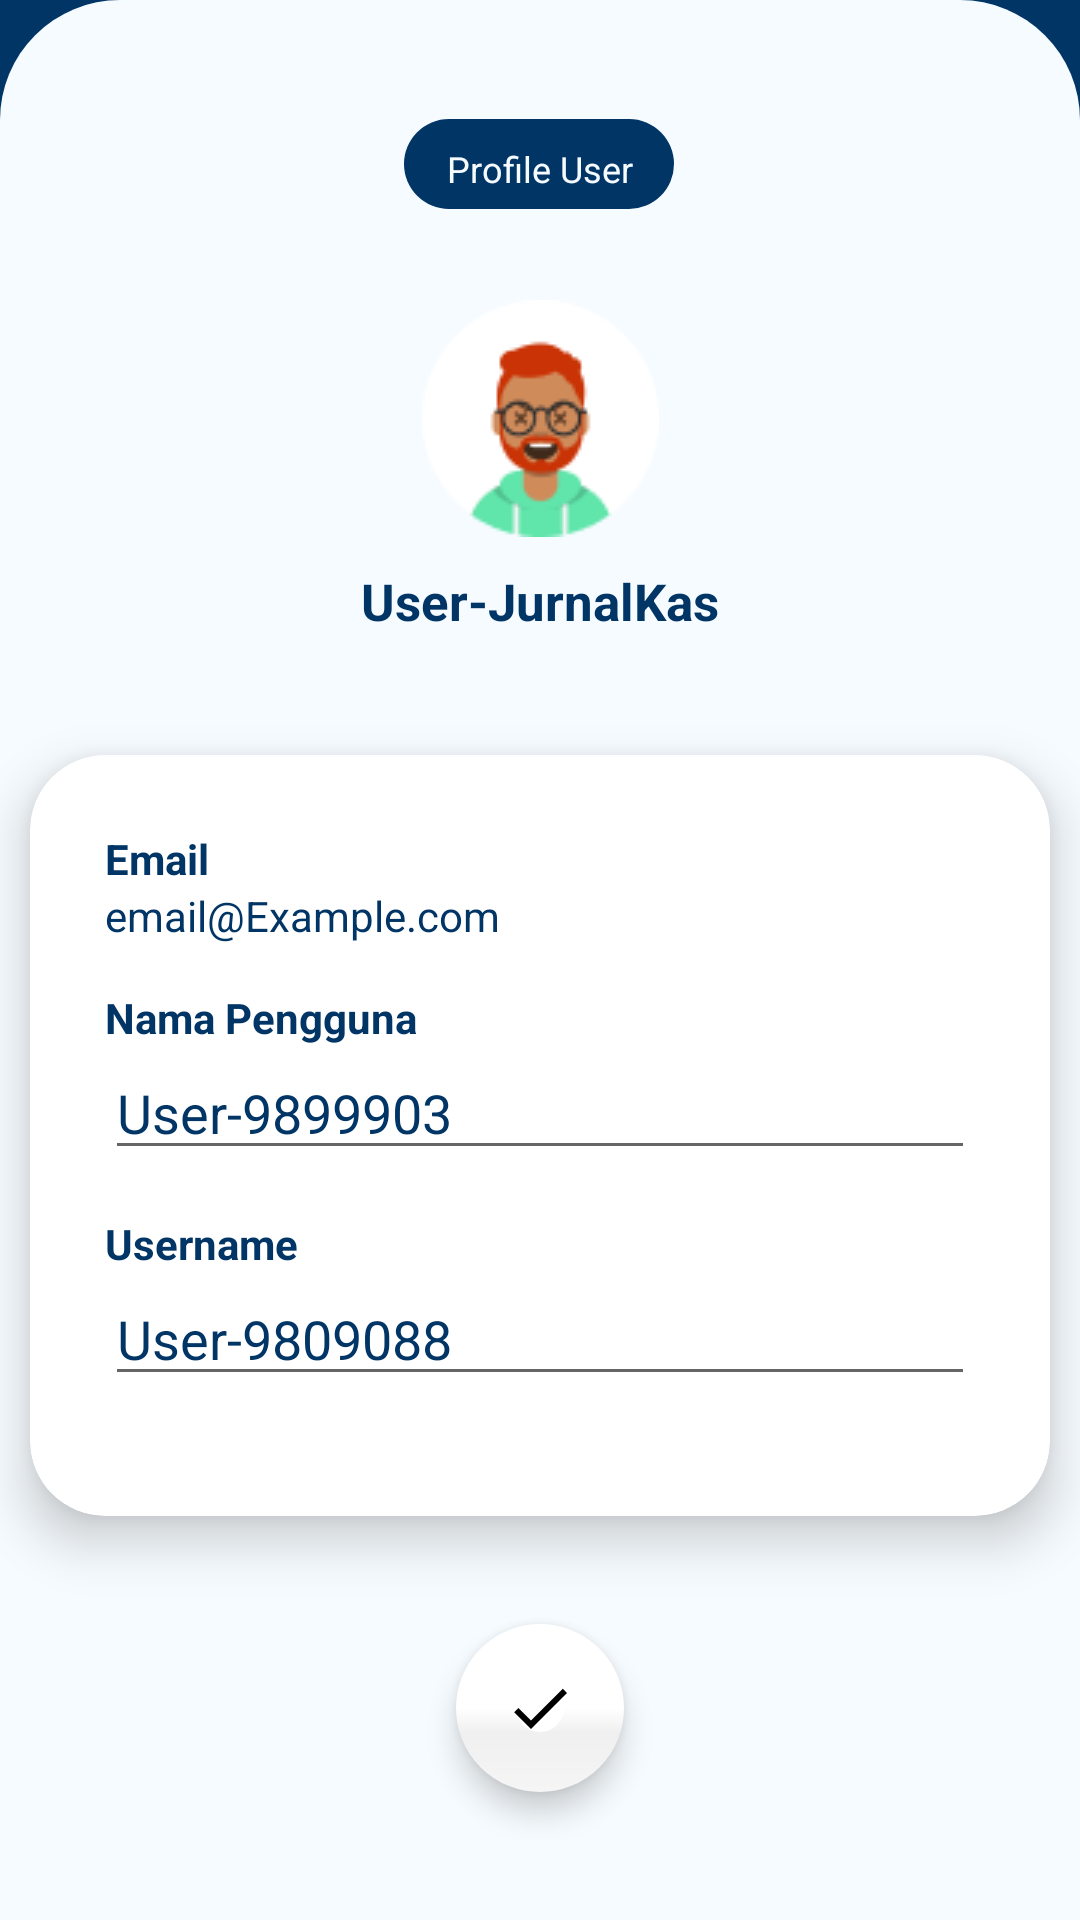

Named icons in this screenshot (1080 × 1920) and their bounding boxes, (x1, y1, x2, y2):
ava: (470, 341, 611, 537)
